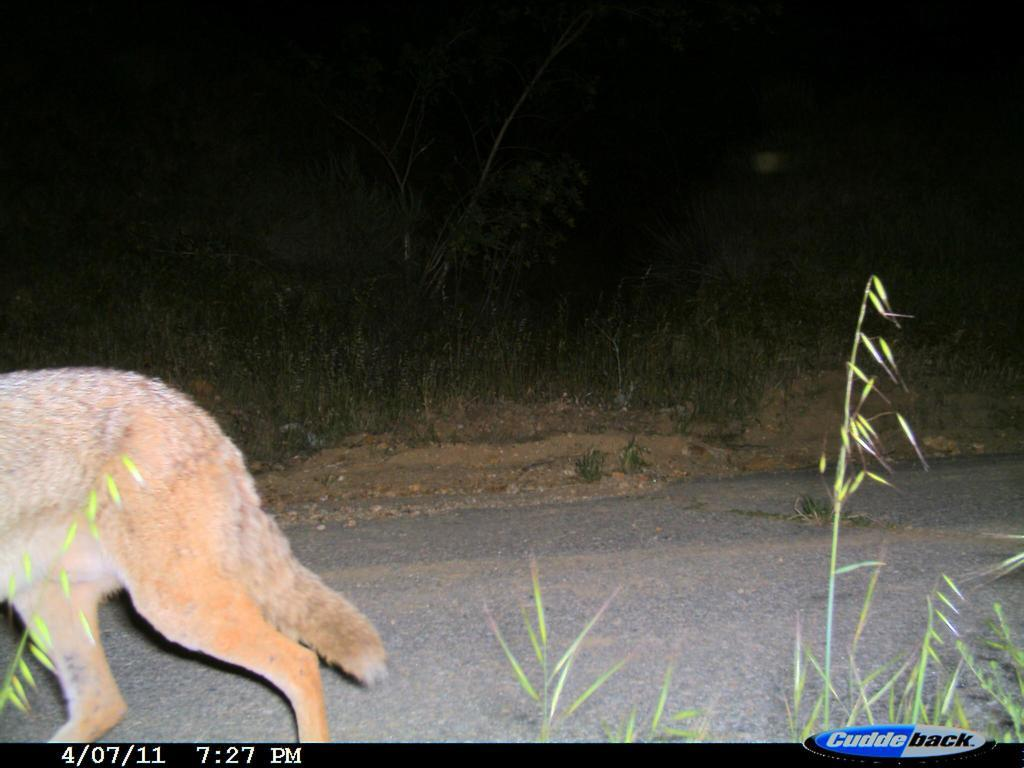coyote: (1, 342, 397, 743)
